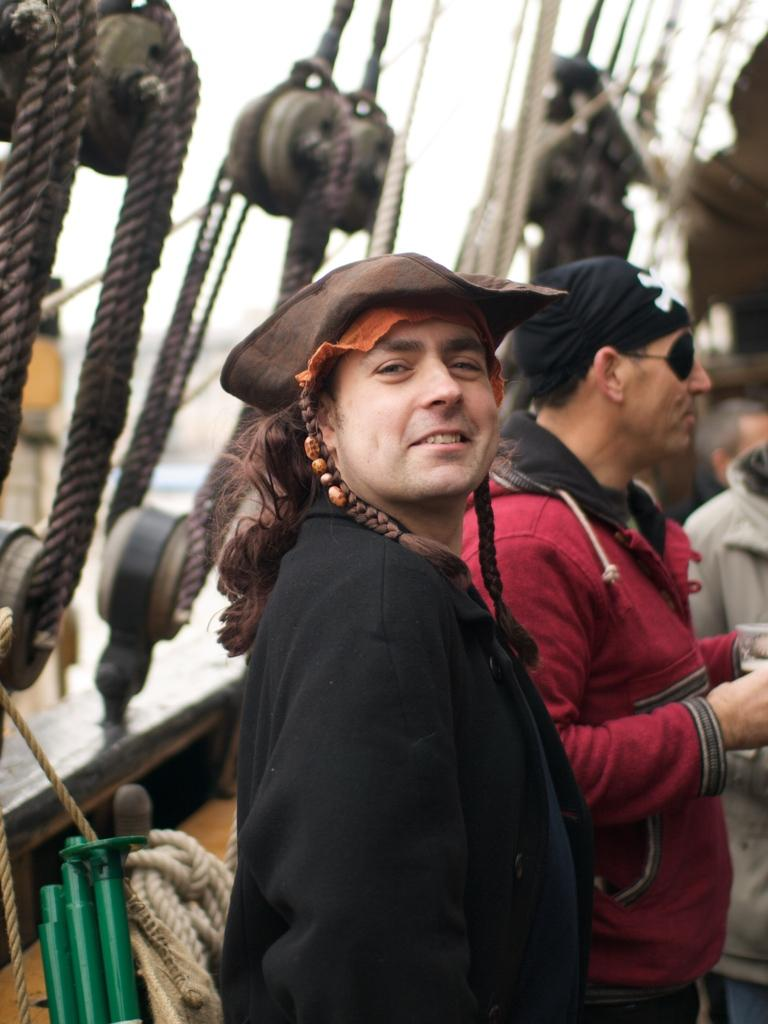Hat: (218, 256, 566, 413)
